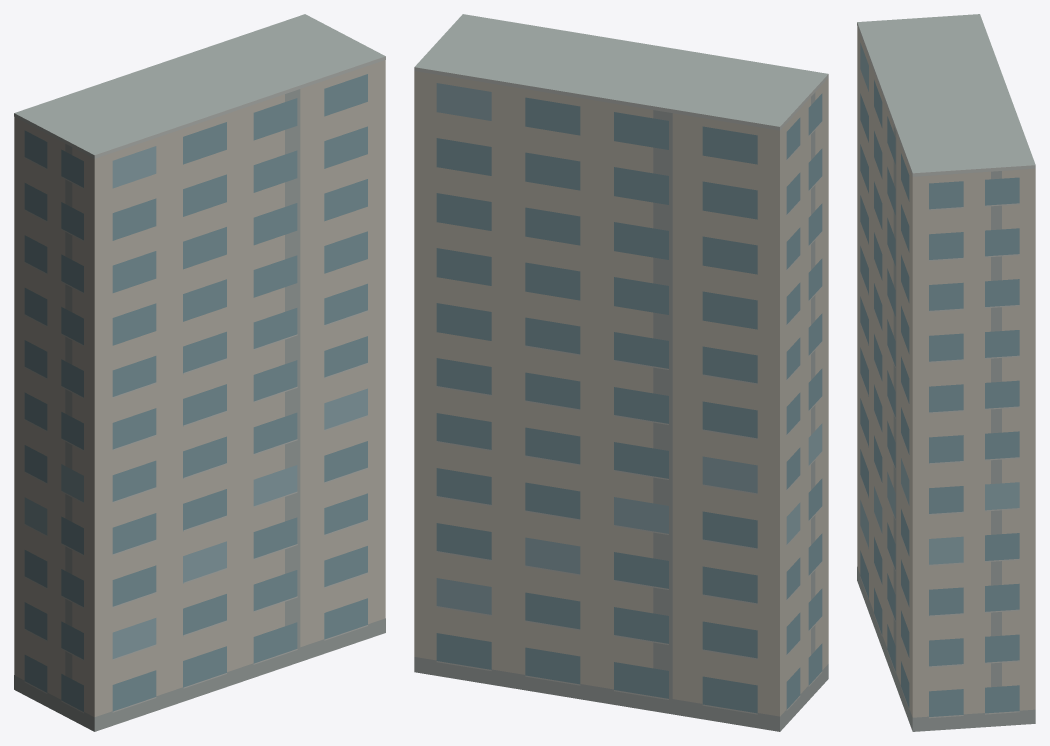
File: residential-2d8e607d-6106-4c14-9ab1-81b04d5299f2.glb
3 views of the same model, side by side, from view 1: azimuth 30°, elevation 25°; view 2: azimuth 150°, elevation 25°; view 3: azimuth 270°, elevation 25° (orthographic). The views are drawn at different scales.
Parts seen in each view (by area): view 1: residential-2d8e607d-6106-4c14-9ab1-81b04d5299f2.tmp; view 2: residential-2d8e607d-6106-4c14-9ab1-81b04d5299f2.tmp; view 3: residential-2d8e607d-6106-4c14-9ab1-81b04d5299f2.tmp.
Boxes of the visible parts, <box> form: residential-2d8e607d-6106-4c14-9ab1-81b04d5299f2.tmp: <box>14,14,385,731</box>; residential-2d8e607d-6106-4c14-9ab1-81b04d5299f2.tmp: <box>414,14,828,731</box>; residential-2d8e607d-6106-4c14-9ab1-81b04d5299f2.tmp: <box>857,14,1035,731</box>.
Bounding box in the file's own units: 23.86 × 39 × 11.31.
